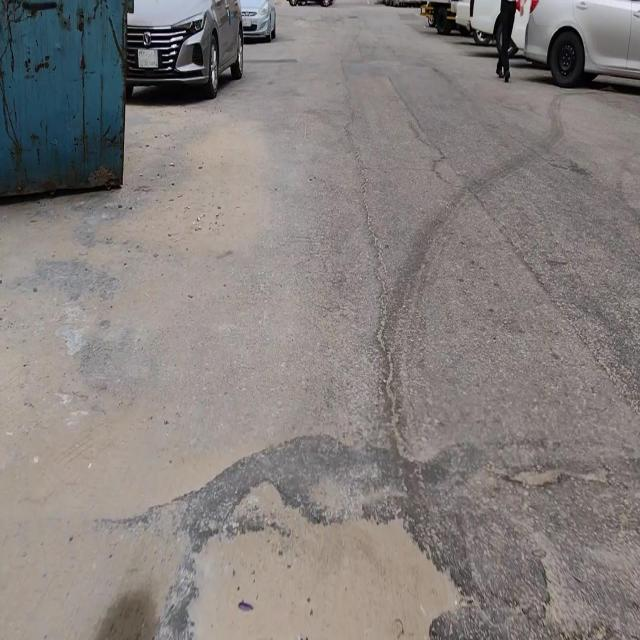Pothole: (184, 473, 469, 639)
